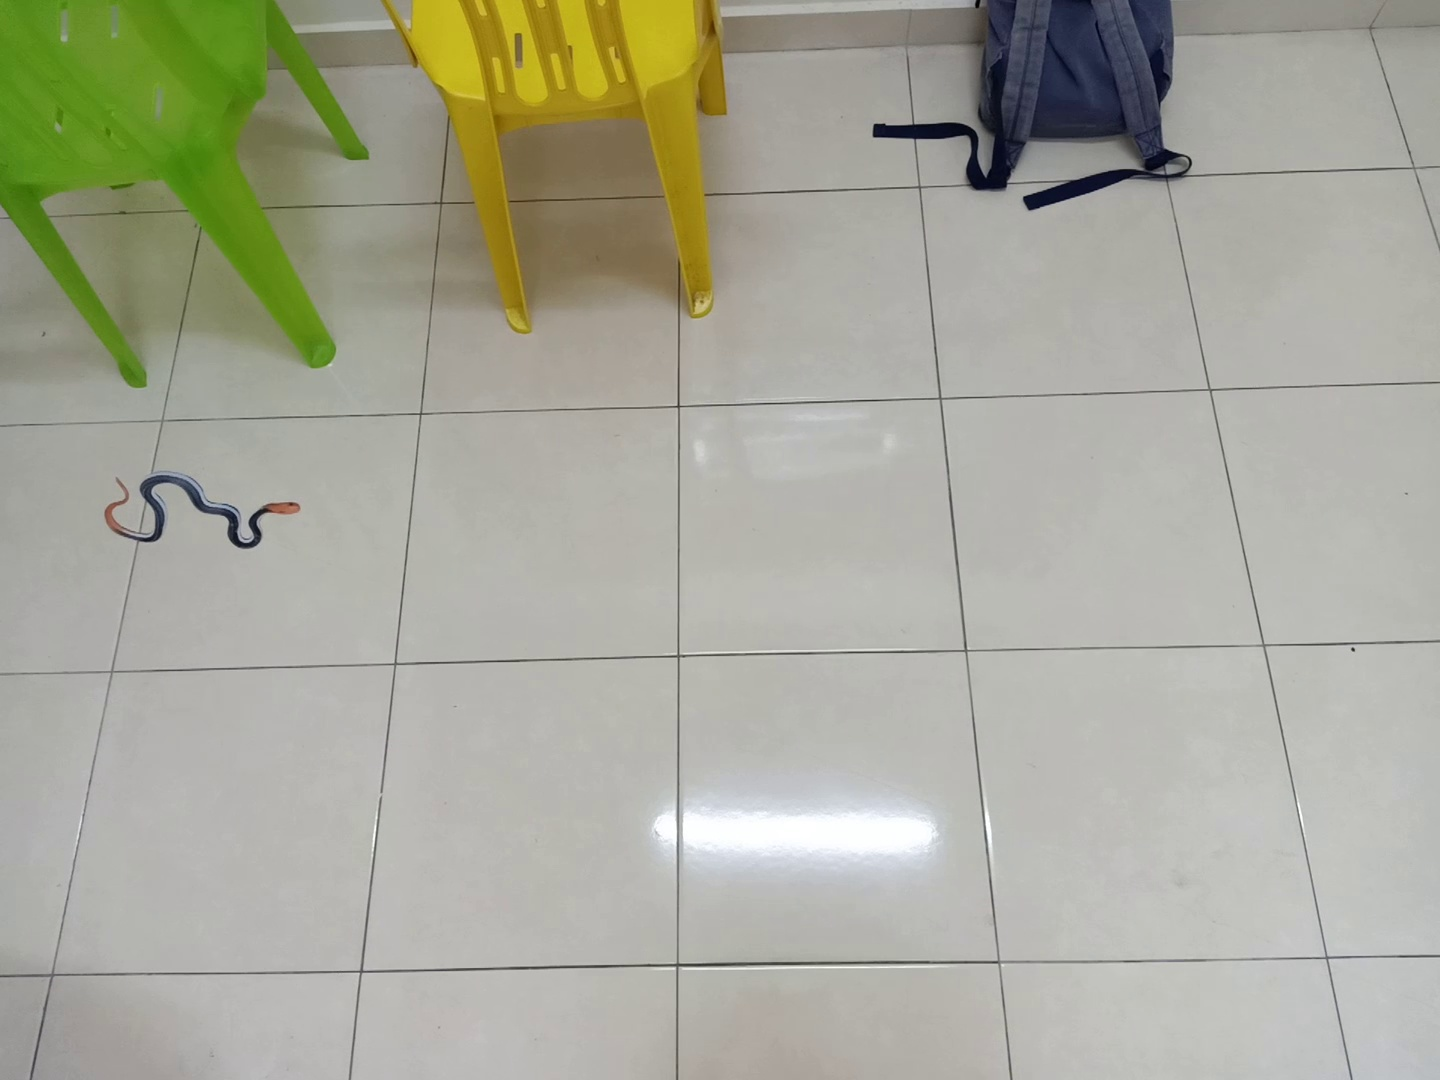snake: (100, 459, 310, 558)
